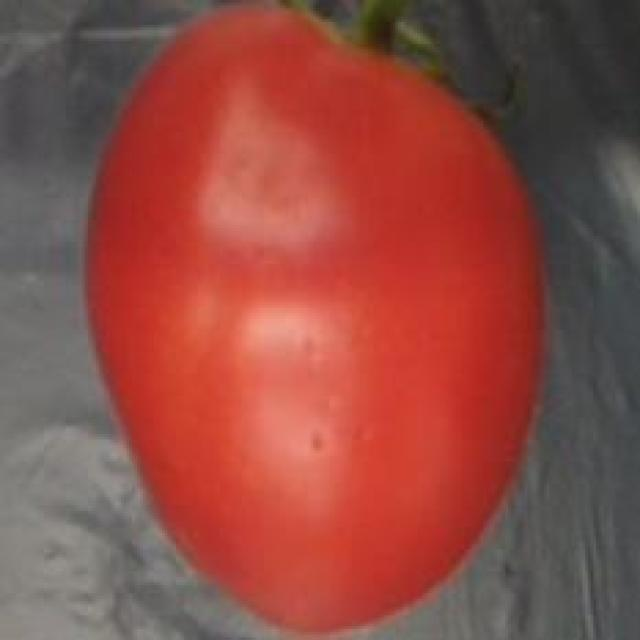ripe tomato: (71, 0, 555, 640)
